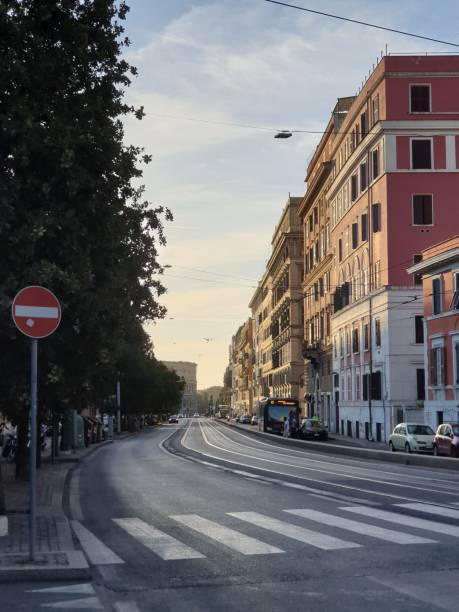Girilmez: (11, 286, 64, 340)
